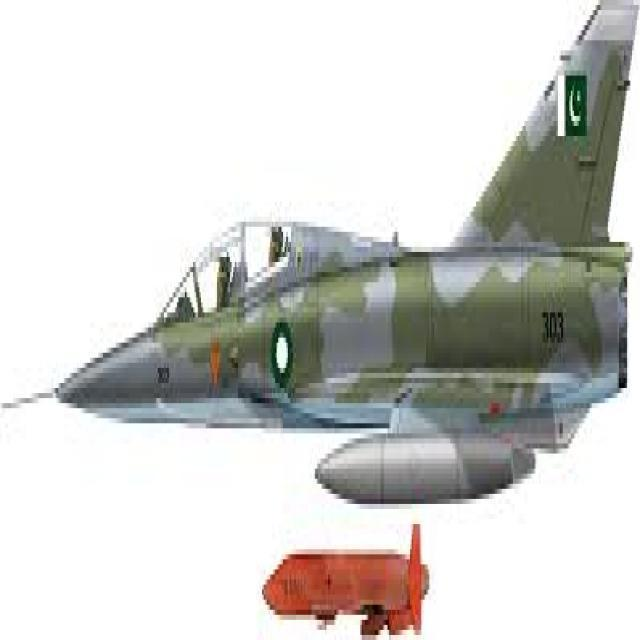Missile: (313, 422, 537, 515)
